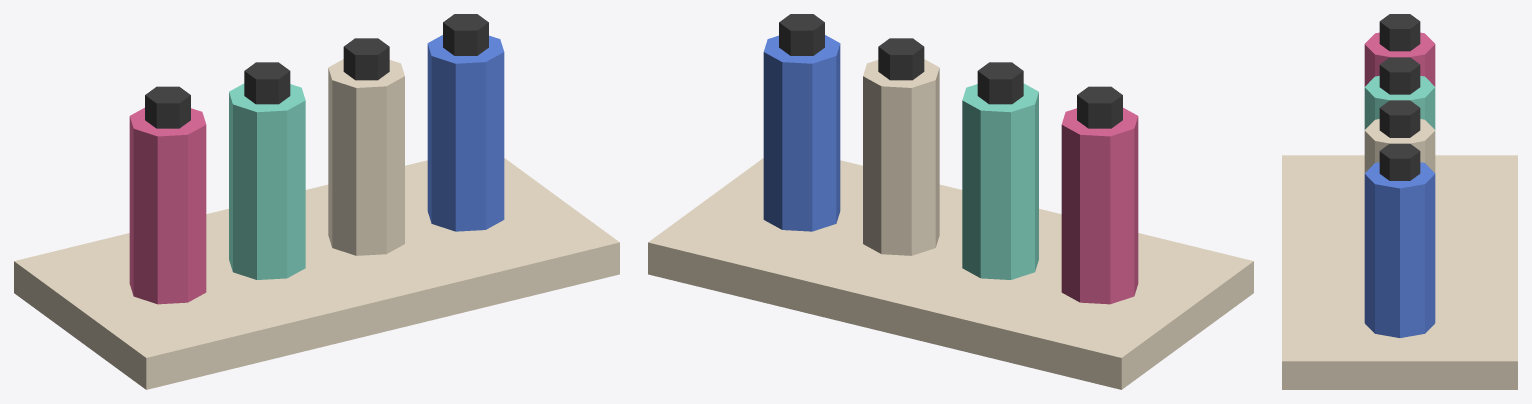
The picture shows the model from 3 angles, left to right: view 1: azimuth 30°, elevation 25°; view 2: azimuth 150°, elevation 25°; view 3: azimuth 270°, elevation 25°; orthographic projection. The views are drawn at different scales.
Parts seen in each view (by area): view 1: Vanity tray, Bottle, Bottle.003, Bottle.001, Bottle.002, Bottle cap.001, Bottle cap.002, Bottle cap, Bottle cap.003; view 2: Vanity tray, Bottle, Bottle.003, Bottle.001, Bottle.002, Bottle cap.001, Bottle cap.002, Bottle cap, Bottle cap.003; view 3: Vanity tray, Bottle.003, Bottle.001, Bottle, Bottle.002, Bottle cap.002, Bottle cap, Bottle cap.001, Bottle cap.003.
Boxes of the visible parts, left/top/right/bottom form: Vanity tray: left=14, top=158, right=619, bottom=389; Bottle: left=129, top=107, right=206, bottom=304; Bottle.003: left=427, top=35, right=504, bottom=231; Bottle.001: left=229, top=83, right=305, bottom=279; Bottle.002: left=328, top=59, right=404, bottom=255; Bottle cap.001: left=244, top=62, right=290, bottom=104; Bottle cap.002: left=343, top=38, right=389, bottom=80; Bottle cap: left=145, top=86, right=190, bottom=128; Bottle cap.003: left=443, top=14, right=488, bottom=55; Vanity tray: left=648, top=158, right=1253, bottom=389; Bottle: left=1061, top=107, right=1138, bottom=304; Bottle.003: left=763, top=35, right=840, bottom=231; Bottle.001: left=962, top=83, right=1038, bottom=279; Bottle.002: left=863, top=59, right=939, bottom=255; Bottle cap.001: left=977, top=62, right=1023, bottom=104; Bottle cap.002: left=878, top=38, right=924, bottom=80; Bottle cap: left=1077, top=86, right=1122, bottom=128; Bottle cap.003: left=779, top=14, right=824, bottom=55; Vanity tray: left=1282, top=155, right=1517, bottom=389; Bottle.003: left=1364, top=162, right=1435, bottom=337; Bottle.001: left=1364, top=76, right=1435, bottom=129; Bottle: left=1364, top=32, right=1435, bottom=86; Bottle.002: left=1364, top=119, right=1435, bottom=172; Bottle cap.002: left=1379, top=100, right=1420, bottom=137; Bottle cap: left=1379, top=14, right=1420, bottom=51; Bottle cap.001: left=1379, top=57, right=1420, bottom=94; Bottle cap.003: left=1379, top=143, right=1420, bottom=180.
Size of the model in its own units: 62 by 28.15 by 30.
